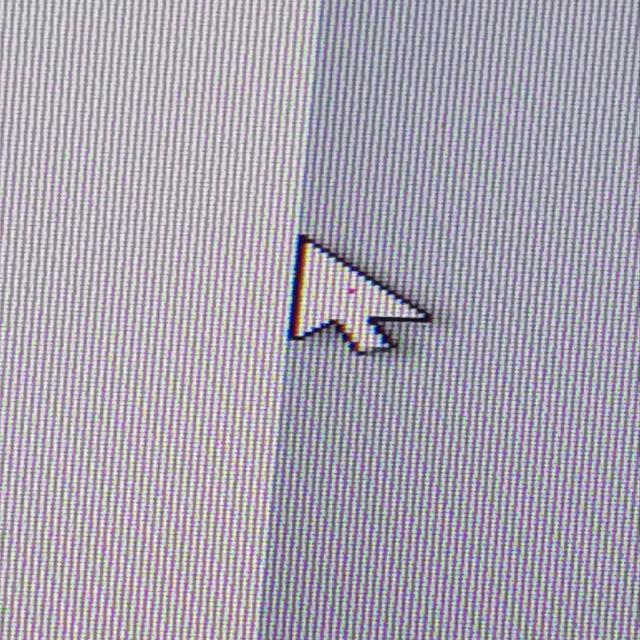Dead pixel: (346, 288, 356, 294)
